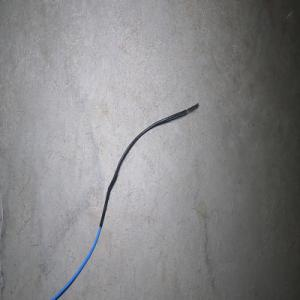Wire: (50, 102, 199, 300)
